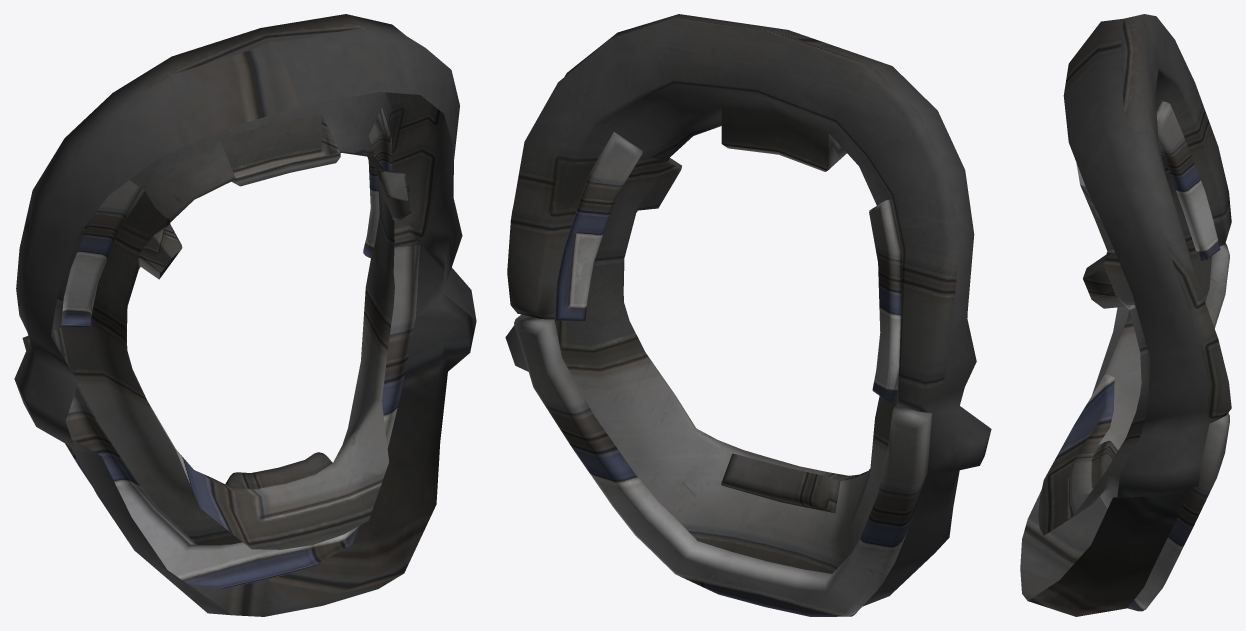
File: First Person Visor Model.fbx
3 renders of one model, left to right at view 1: azimuth 30°, elevation 25°; view 2: azimuth 150°, elevation 25°; view 3: azimuth 270°, elevation 25°, orthographic. The views are drawn at different scales.
Parts seen in each view (by area): view 1: polySurface9; view 2: polySurface9; view 3: polySurface9.
Boxes of the visible parts, bbox=[...] form: polySurface9: bbox=[14, 14, 476, 616]; polySurface9: bbox=[505, 14, 991, 616]; polySurface9: bbox=[1020, 14, 1231, 616].
Size of the model in its own units: 30.32 by 35.87 by 12.73.
